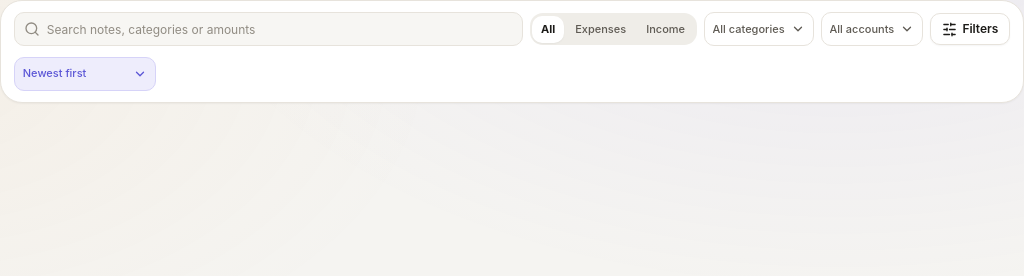
Test: TransactionFilters › rejects an invalid date range in the advanced panel
Click the button "Filters" at (970, 29), box [930,13,1010,45]
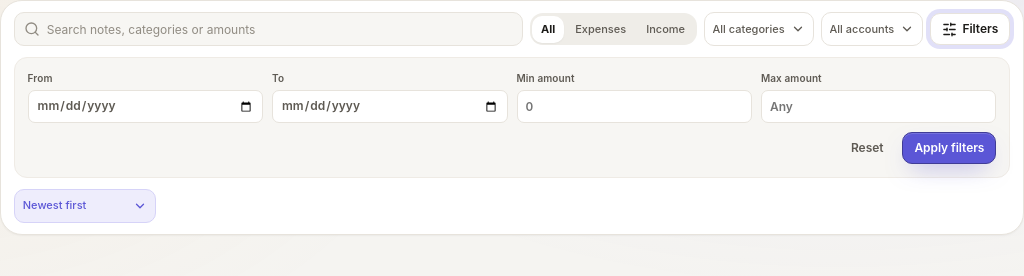
Type "2026-11-20" into the date field labelled "From" at (145, 107), box [28,90,263,123]
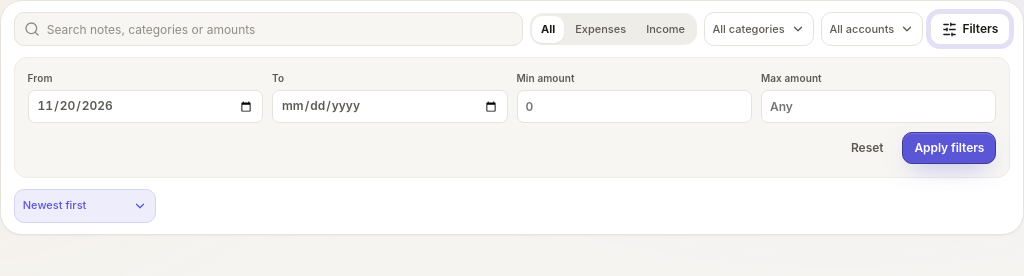
Type "2026-11-01" into the date field labelled "To" at (390, 107), box [272,90,508,123]
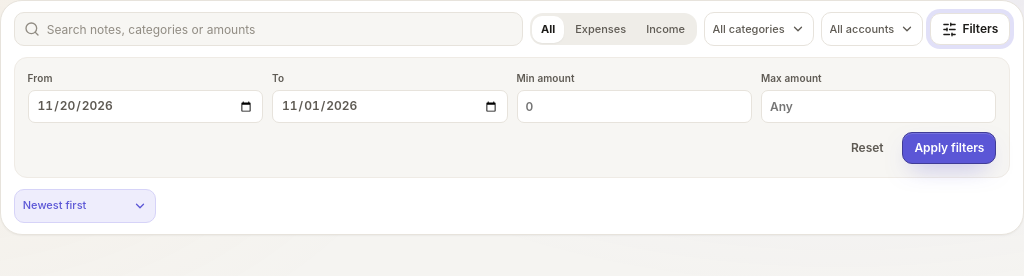
Click the button "Apply filters" at (949, 148), box [902,132,996,164]
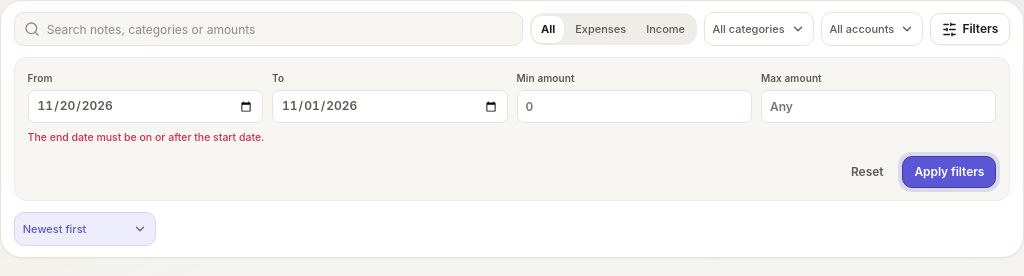
Result: the message reads "The end date must be on or after the start date." at [28,131,264,144]
